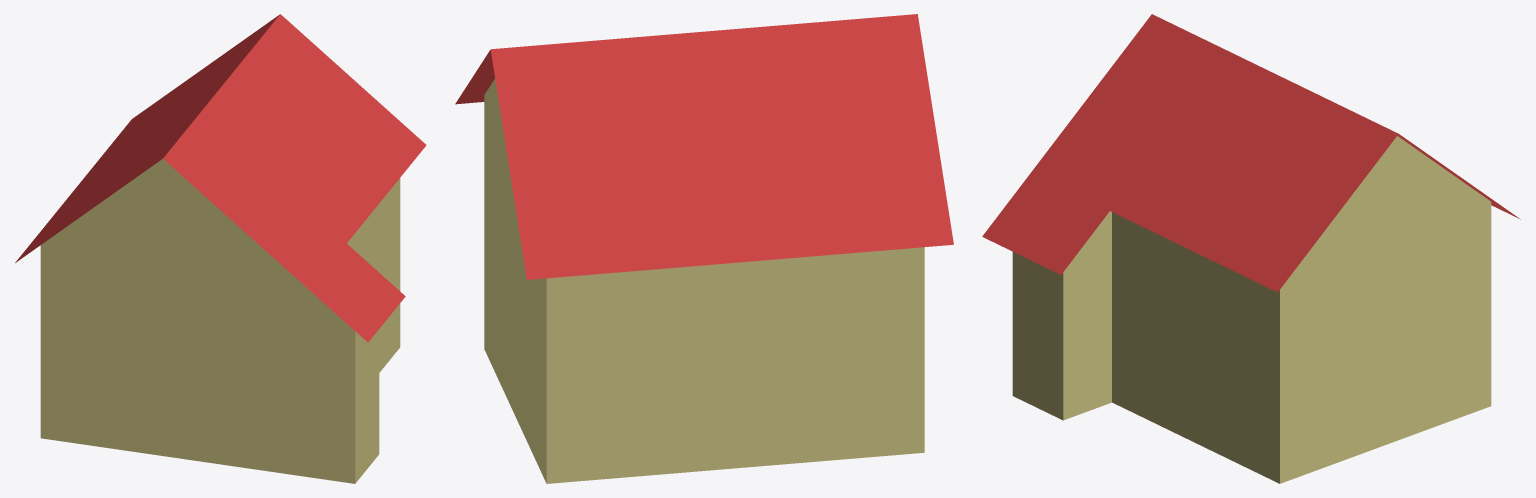
3 renders of one model, left to right at view 1: azimuth 30°, elevation 25°; view 2: azimuth 150°, elevation 25°; view 3: azimuth 270°, elevation 25°, orthographic. The views are drawn at different scales.
Visible parts, largest first — view 1: group_5, group_3, group_4; view 2: group_3, group_5, group_4; view 3: group_5, group_3, group_4.
Part boxes in pixels (x1,y1,x2,y2): group_5: (40, 159, 400, 483); group_3: (15, 14, 426, 342); group_4: (59, 15, 367, 342); group_3: (490, 14, 953, 279); group_5: (484, 78, 924, 483); group_4: (455, 14, 949, 275); group_5: (1012, 136, 1491, 483); group_3: (982, 14, 1408, 292); group_4: (982, 16, 1520, 236).
Size of the model in its own units: 17.22 by 18.74 by 12.2.
